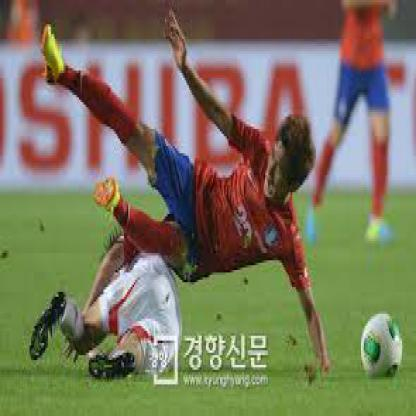Fall_Down: (39, 3, 335, 380)
